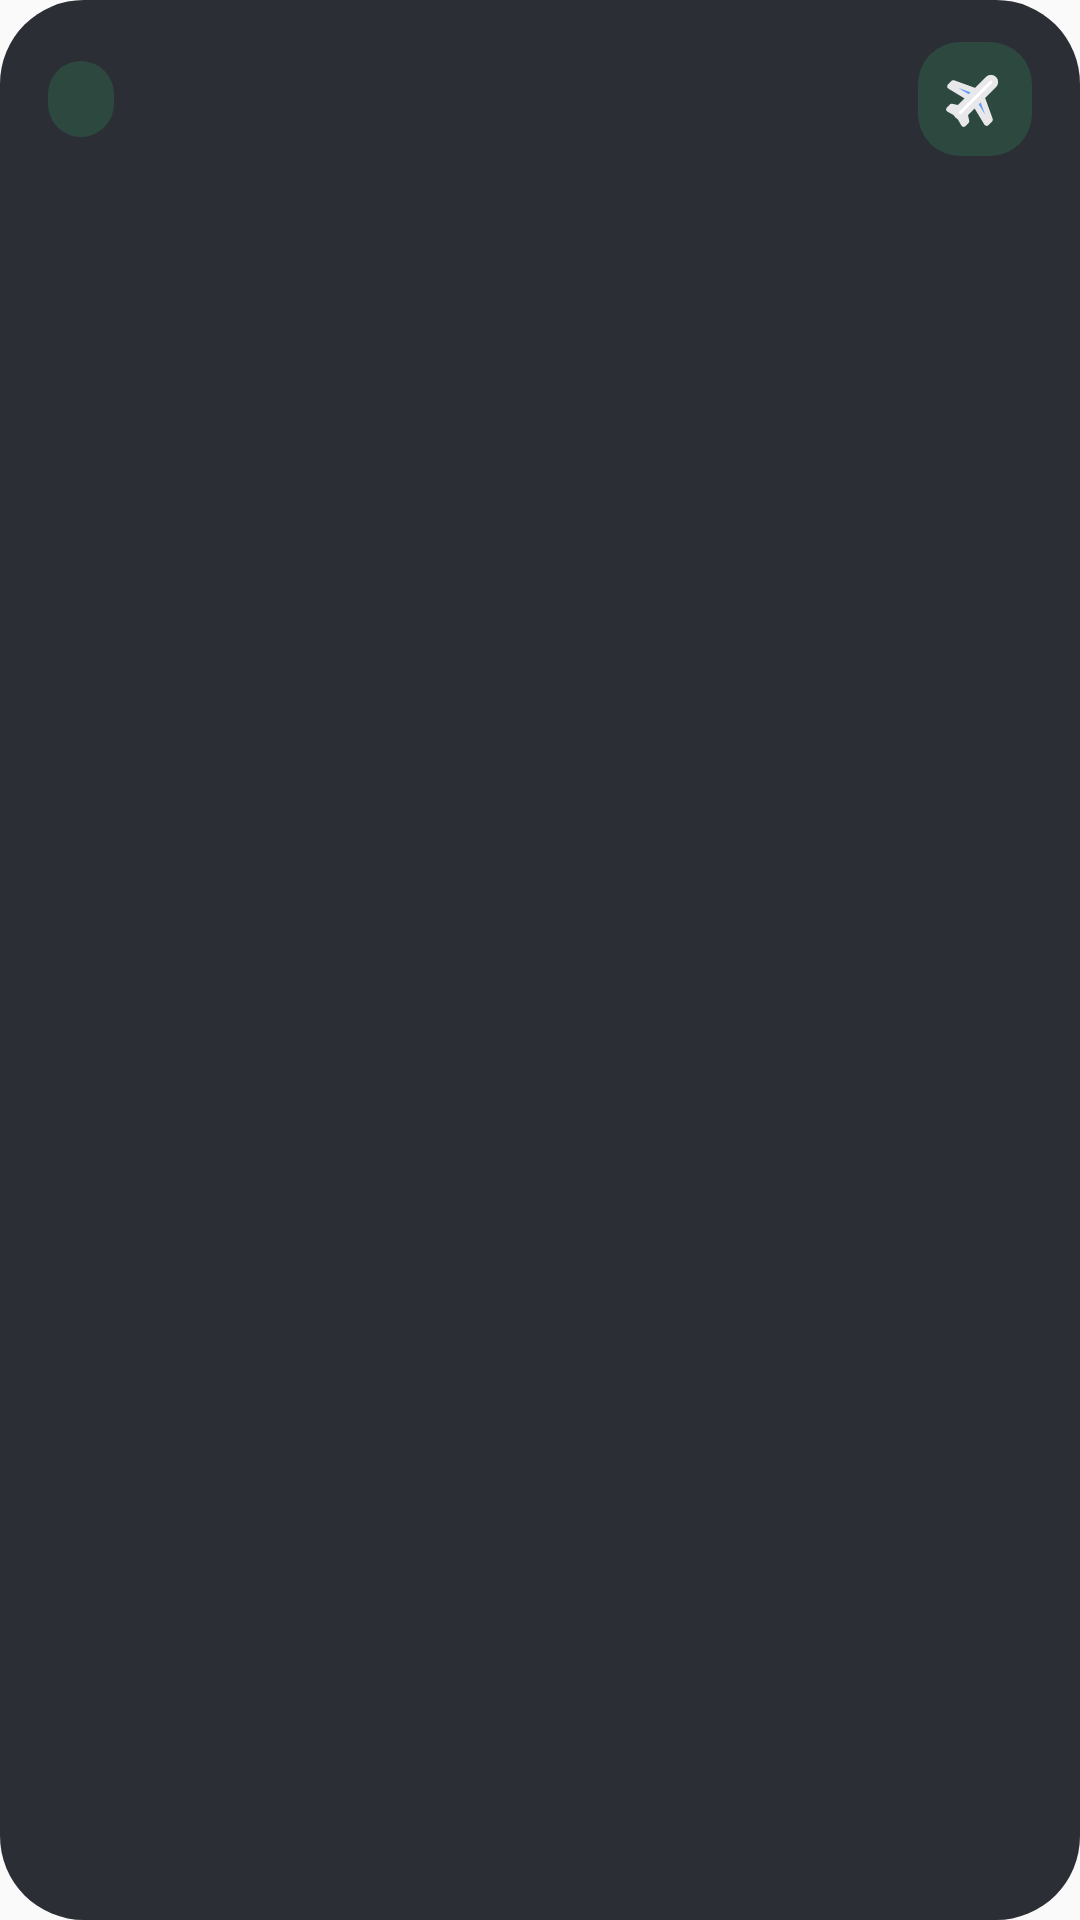

Icons on this 1080x1920 Android screen, each with the point to tap as (x,y):
plane: (972,101)
